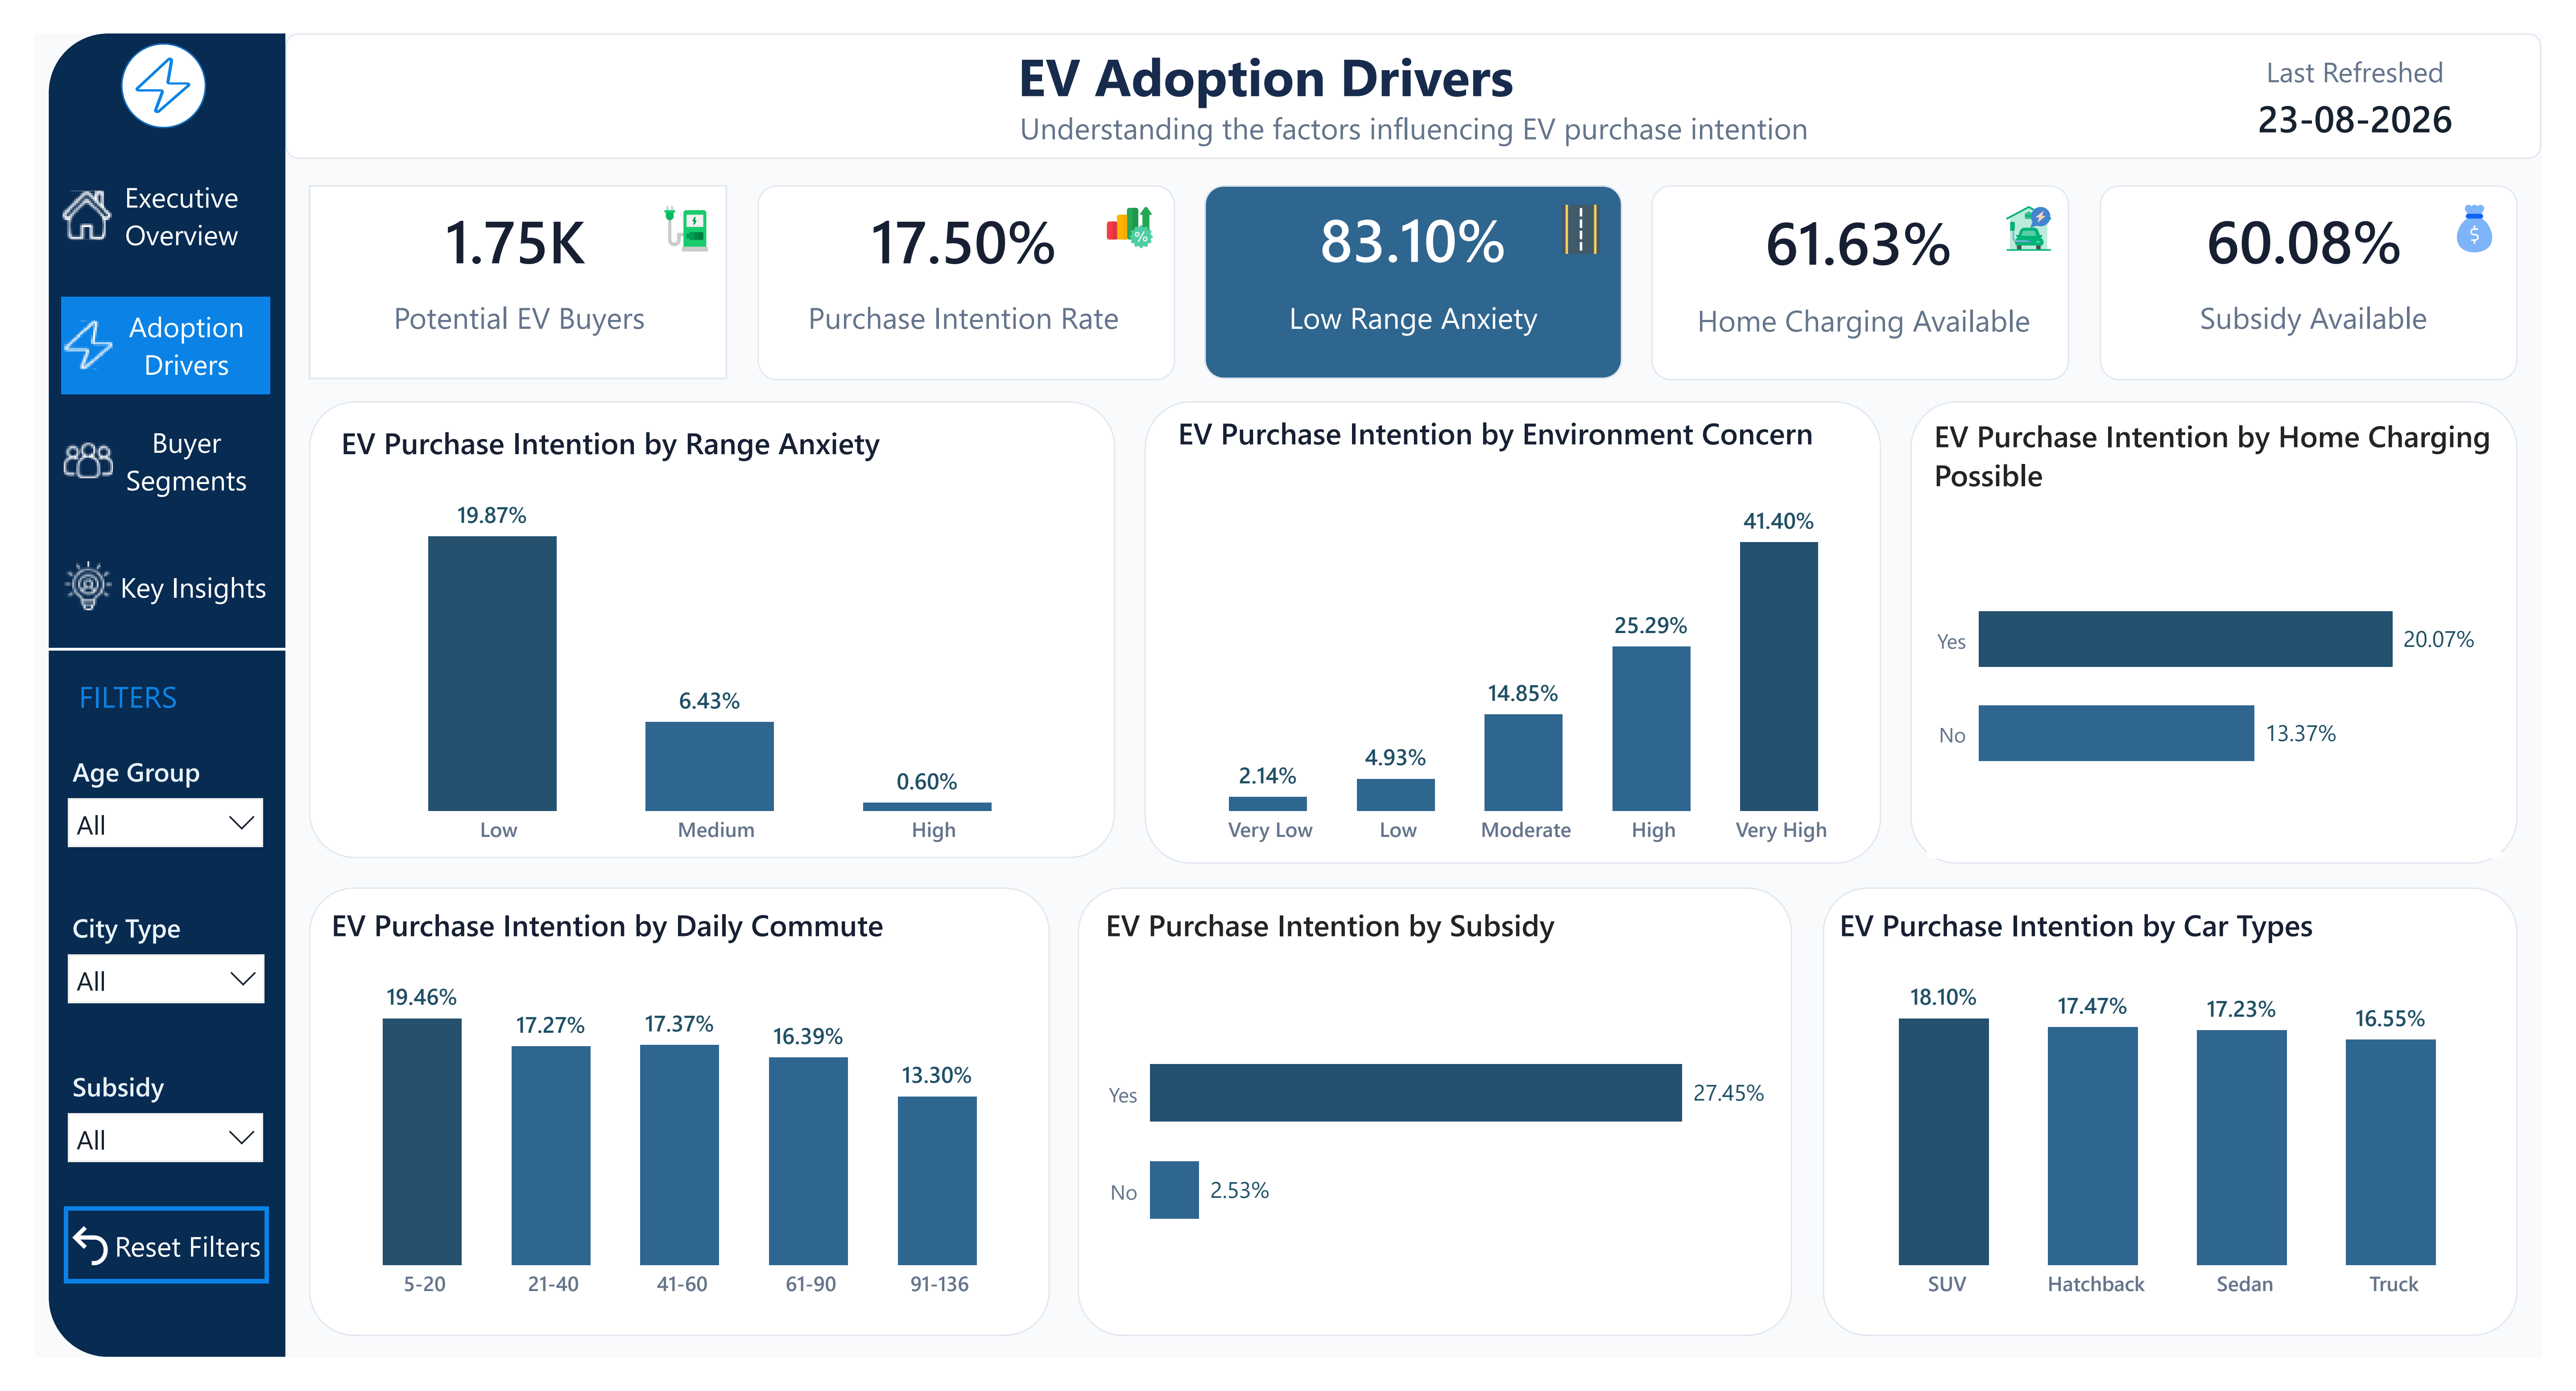

The page's visual inventory and layout, read from the dashboard file:
{"tool":"powerbi","page":{"name":"Adoption Drivers","canvas":[1800,950],"ordinal":1},"visuals":[{"type":"shape","box":[180.5,0,1619.1,90],"z":0},{"type":"shape","box":[62.2,6.9,60.5,60.5],"z":0,"group":"g1"},{"type":"image","box":[72.6,17.3,39.8,39.8],"z":1000,"group":"g1"},{"type":"shape","box":[1346.7,263.9,435.8,332],"z":1000},{"type":"shape","box":[10.2,0,170,950],"z":2000},{"type":"textbox","box":[575.4,0,618,68.1],"z":3000},{"type":"textbox","box":[689.5,47.7,601,39.2],"z":4000},{"type":"shape","box":[197.5,108.9,299.6,139.6],"z":5000},{"type":"shape","box":[518.7,108.9,300,140],"z":6000},{"type":"shape","box":[840.2,108.9,299.6,139.6],"z":7000},{"type":"shape","box":[1161.4,108.9,300,140],"z":8000},{"type":"shape","box":[1482.9,108.9,300,140],"z":9000},{"type":"shape","box":[197.5,263.9,578.9,328.6],"z":10000},{"type":"shape","box":[749.1,612.9,512.5,321.8],"z":11000},{"type":"shape","box":[796.8,263.9,529.5,332],"z":12000},{"type":"shape","box":[197.5,612.9,531.2,321.8],"z":13000},{"type":"shape","box":[1283.7,612.9,498.8,321.8],"z":14000},{"type":"cardVisual","fields":{"Data":["_Measures.Potential EV Buyers"]},"box":[239.3,108,211.2,76],"z":15000},{"type":"textbox","box":[243.4,183.9,209.2,44.2],"z":16000},{"type":"cardVisual","fields":{"Data":["_Measures.EV Purchase Intention Rate"]},"box":[561.8,108,211.2,76.4],"z":17000},{"type":"textbox","box":[538,183.9,257.6,45],"z":18000},{"type":"cardVisual","fields":{"Data":["_Measures.Low Range Anxiety"]},"box":[887,105.6,206,78.3],"z":19000},{"type":"textbox","box":[849.7,183.9,280,44.5],"z":20000},{"type":"cardVisual","fields":{"Data":["_Measures.Home Charging Available"]},"box":[1212.2,108,196,78],"z":21000},{"type":"textbox","box":[1179.8,185.6,267.3,46],"z":22000},{"type":"cardVisual","fields":{"Data":["_Measures.Subsidy Available"]},"box":[1526,108,208,76],"z":23000},{"type":"textbox","box":[1535.7,183.9,201.1,46.3],"z":24000},{"type":"clusteredColumnChart","title":"EV Purchase Intention by Range Anxiety","fields":{"Y":["_Measures.EV Purchase Intention Rate"],"Category":["ev_adoption.range_anxiety_level"]},"box":[214.5,279.2,549.9,313.3],"z":25000},{"type":"clusteredColumnChart","title":"EV Purchase Intention by Environment Concern","fields":{"Y":["_Measures.EV Purchase Intention Rate"],"Category":["ev_adoption.Environmental Concern"]},"box":[815.5,272.4,510.8,320.1],"z":26000},{"type":"slicer","fields":{"Values":["ev_adoption.age_group"]},"box":[13.8,511.8,160.6,89],"z":27000},{"type":"slicer","fields":{"Values":["ev_adoption.city_type"]},"box":[13.8,624.2,160.8,89.9],"z":28000},{"type":"slicer","fields":{"Values":["ev_adoption.subsidy_available"]},"box":[13.8,738.3,160.6,89],"z":29000},{"type":"actionButton","box":[20.7,842.1,147,55.3],"z":30000},{"type":"shape","box":[18.7,189,149.8,69.8],"z":31000},{"type":"group","id":"g1","title":"Group 1","box":[62.2,6.9,60.5,60.5],"z":32000},{"type":"actionButton","box":[20.4,95.3,144.7,69.8],"z":33000},{"type":"actionButton","box":[20.7,188.5,150.4,69.2],"z":34000},{"type":"actionButton","box":[20.7,271.5,150.4,69.2],"z":35000},{"type":"actionButton","box":[20.7,361.4,150.4,69.2],"z":36000},{"type":"shape","box":[10.4,435.7,169.5,12.1],"z":37000},{"type":"textbox","box":[10.4,456.5,114.1,38],"z":38000},{"type":"cardVisual","fields":{"Data":["_Measures.Last Refreshed"]},"box":[1535.4,0,262.8,89.9],"z":39000},{"type":"clusteredColumnChart","title":"EV Purchase Intention by Car Types","fields":{"Y":["_Measures.EV Purchase Intention Rate"],"Category":["ev_adoption.current_car_type"]},"box":[1290.5,624.8,486.9,292.8],"z":40000},{"type":"clusteredColumnChart","title":"EV Purchase Intention by Daily Commute","fields":{"Y":["_Measures.EV Purchase Intention Rate"],"Category":["ev_adoption.Daily Commute Group"]},"box":[207.7,624.8,514.2,292.8],"z":41000},{"type":"clusteredBarChart","title":"EV Purchase Intention by Home Charging Possible","fields":{"Category":["ev_adoption.home_charging_possible"],"Y":["_Measures.EV Purchase Intention Rate"]},"box":[1358.6,274.1,412,318.4],"z":42000},{"type":"clusteredBarChart","title":"EV Purchase Intention by Subsidy","fields":{"Category":["ev_adoption.subsidy_available"],"Y":["_Measures.EV Purchase Intention Rate"]},"box":[764.4,624.8,483.5,297.9],"z":43000},{"type":"image","box":[769.5,122.8,34.6,32.9],"z":44000},{"type":"image","box":[449.6,122.8,35,35],"z":45000},{"type":"image","box":[1734.3,122.8,34.6,34.6],"z":46000},{"type":"image","box":[1414.8,122.6,34.1,34.1],"z":47000},{"type":"image","box":[1093,122.6,35,35],"z":48000}]}

Visuals, with their boxes on the page's 1800x950 design canvas (x1, y1, x2, y2). These are canvas units, not pixel positions in the 2576x1391 screenshot, which may show the page scaled, cropped or inside an application window:
shape: <bbox>180, 0, 1800, 90</bbox>
shape: <bbox>62, 7, 123, 67</bbox>
image: <bbox>73, 17, 112, 57</bbox>
shape: <bbox>1347, 264, 1782, 596</bbox>
shape: <bbox>10, 0, 180, 950</bbox>
textbox: <bbox>575, 0, 1193, 68</bbox>
textbox: <bbox>690, 48, 1290, 87</bbox>
shape: <bbox>198, 109, 497, 248</bbox>
shape: <bbox>519, 109, 819, 249</bbox>
shape: <bbox>840, 109, 1140, 248</bbox>
shape: <bbox>1161, 109, 1461, 249</bbox>
shape: <bbox>1483, 109, 1783, 249</bbox>
shape: <bbox>198, 264, 776, 592</bbox>
shape: <bbox>749, 613, 1262, 935</bbox>
shape: <bbox>797, 264, 1326, 596</bbox>
shape: <bbox>198, 613, 729, 935</bbox>
shape: <bbox>1284, 613, 1782, 935</bbox>
cardVisual - _Measures.Potential EV Buyers: <bbox>239, 108, 450, 184</bbox>
textbox: <bbox>243, 184, 453, 228</bbox>
cardVisual - _Measures.EV Purchase Intention Rate: <bbox>562, 108, 773, 184</bbox>
textbox: <bbox>538, 184, 796, 229</bbox>
cardVisual - _Measures.Low Range Anxiety: <bbox>887, 106, 1093, 184</bbox>
textbox: <bbox>850, 184, 1130, 228</bbox>
cardVisual - _Measures.Home Charging Available: <bbox>1212, 108, 1408, 186</bbox>
textbox: <bbox>1180, 186, 1447, 232</bbox>
cardVisual - _Measures.Subsidy Available: <bbox>1526, 108, 1734, 184</bbox>
textbox: <bbox>1536, 184, 1737, 230</bbox>
"EV Purchase Intention by Range Anxiety" clusteredColumnChart: <bbox>214, 279, 764, 592</bbox>
"EV Purchase Intention by Environment Concern" clusteredColumnChart: <bbox>816, 272, 1326, 592</bbox>
slicer - ev_adoption.age_group: <bbox>14, 512, 174, 601</bbox>
slicer - ev_adoption.city_type: <bbox>14, 624, 175, 714</bbox>
slicer - ev_adoption.subsidy_available: <bbox>14, 738, 174, 827</bbox>
actionButton: <bbox>21, 842, 168, 897</bbox>
shape: <bbox>19, 189, 168, 259</bbox>
"Group 1" group: <bbox>62, 7, 123, 67</bbox>
actionButton: <bbox>20, 95, 165, 165</bbox>
actionButton: <bbox>21, 188, 171, 258</bbox>
actionButton: <bbox>21, 272, 171, 341</bbox>
actionButton: <bbox>21, 361, 171, 431</bbox>
shape: <bbox>10, 436, 180, 448</bbox>
textbox: <bbox>10, 456, 124, 494</bbox>
cardVisual - _Measures.Last Refreshed: <bbox>1535, 0, 1798, 90</bbox>
"EV Purchase Intention by Car Types" clusteredColumnChart: <bbox>1290, 625, 1777, 918</bbox>
"EV Purchase Intention by Daily Commute" clusteredColumnChart: <bbox>208, 625, 722, 918</bbox>
"EV Purchase Intention by Home Charging Possible" clusteredBarChart: <bbox>1359, 274, 1771, 592</bbox>
"EV Purchase Intention by Subsidy" clusteredBarChart: <bbox>764, 625, 1248, 923</bbox>
image: <bbox>770, 123, 804, 156</bbox>
image: <bbox>450, 123, 485, 158</bbox>
image: <bbox>1734, 123, 1769, 157</bbox>
image: <bbox>1415, 123, 1449, 157</bbox>
image: <bbox>1093, 123, 1128, 158</bbox>
